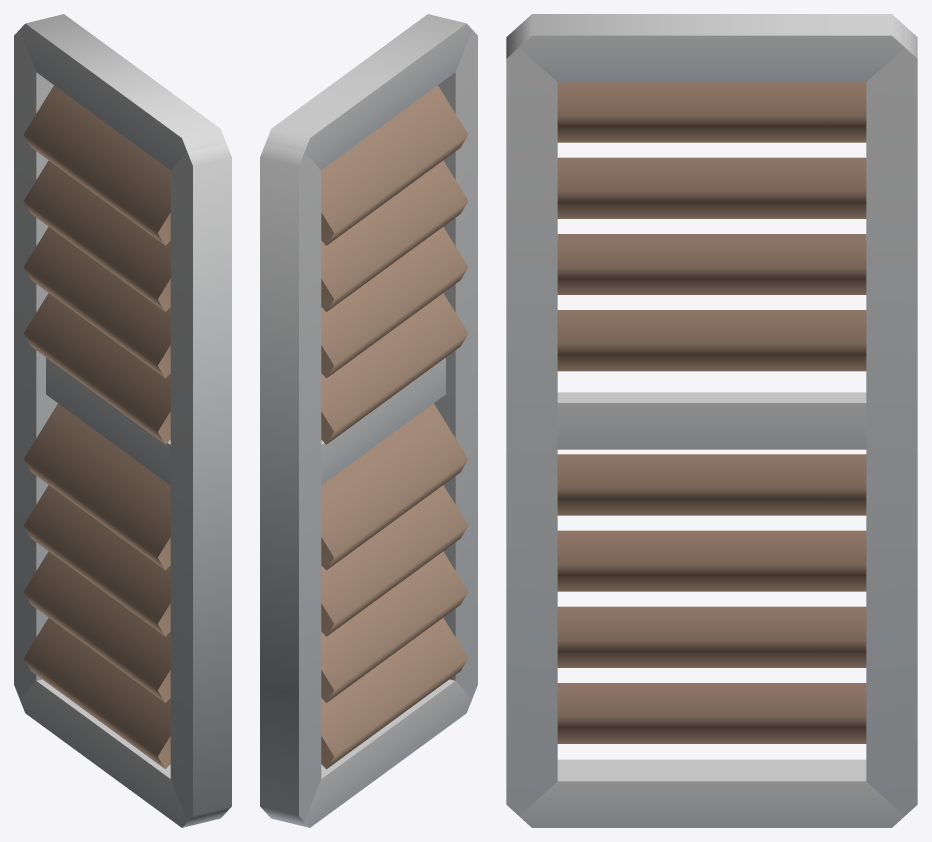
The model's file is shutter-tall-divider (%wall).glb.
3 renders of one model, left to right at view 1: azimuth 30°, elevation 25°; view 2: azimuth 150°, elevation 25°; view 3: azimuth 270°, elevation 25°, orthographic. The views are drawn at different scales.
Parts seen in each view (by area): view 1: shutter-tall-divider (%wall); view 2: shutter-tall-divider (%wall); view 3: shutter-tall-divider (%wall).
Part boxes in pixels (<box>): shutter-tall-divider (%wall): <box>14,14,231,827</box>; shutter-tall-divider (%wall): <box>260,14,477,827</box>; shutter-tall-divider (%wall): <box>506,14,917,827</box>.
Bounding box in the file's own units: 0.0668 × 0.85 × 0.4.
